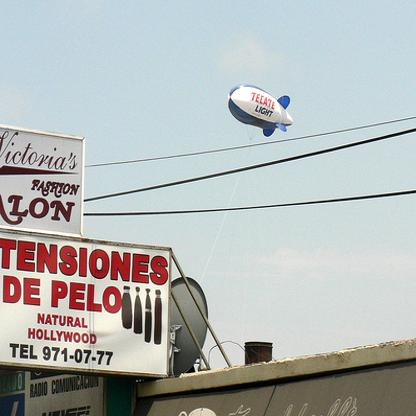Airship: (227, 84, 295, 140)
